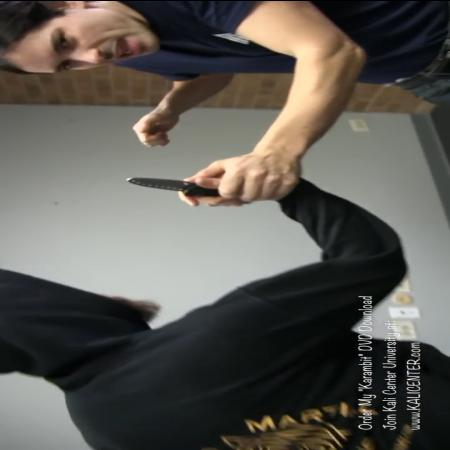long weapon: (117, 156, 262, 210)
